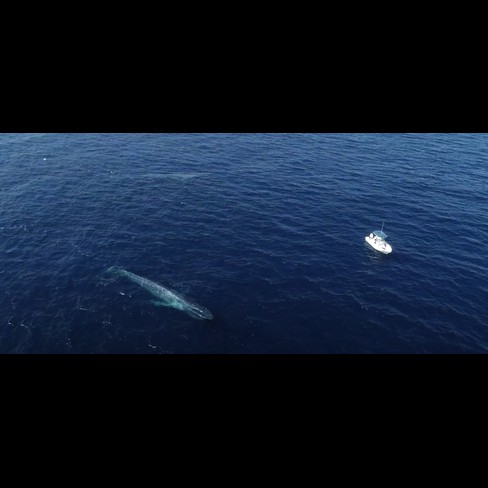bluewhale: (102, 257, 215, 326)
boat: (361, 226, 399, 258)
